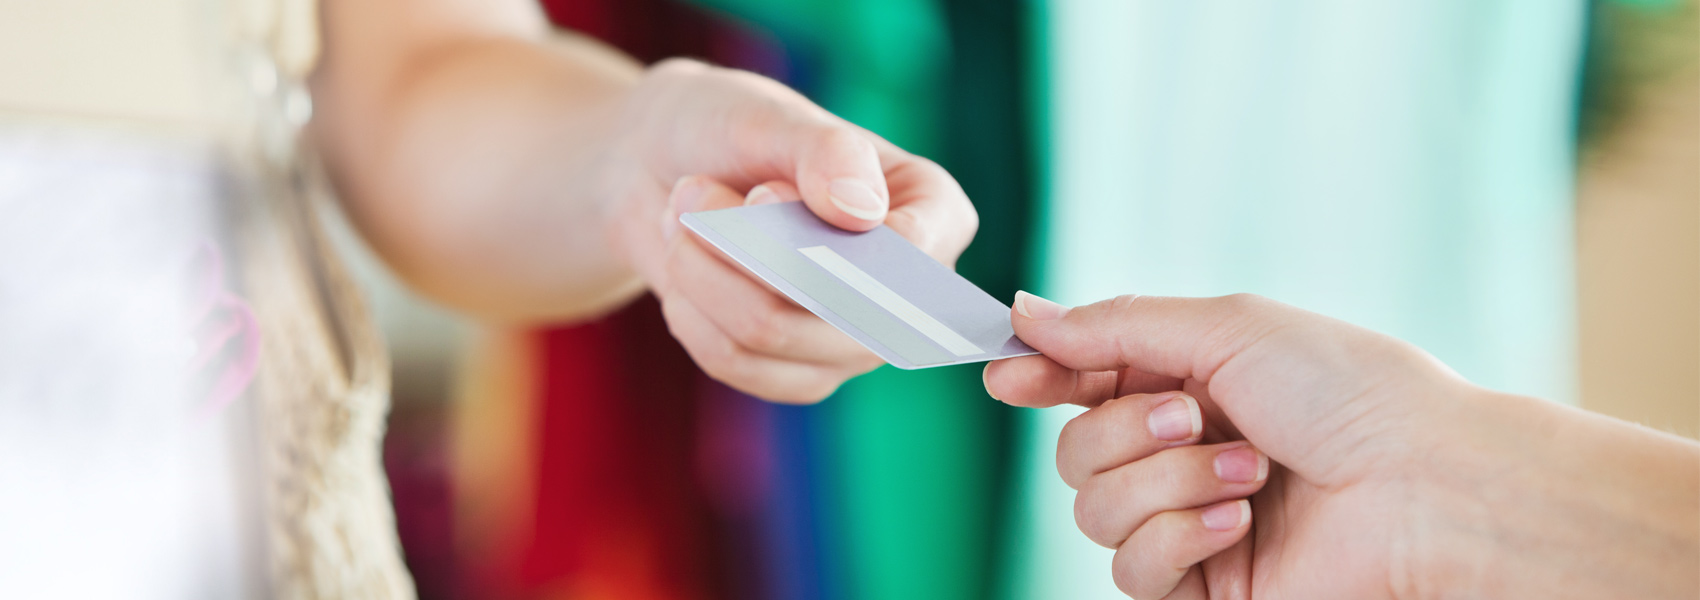tarjeta: (677, 197, 1053, 374)
